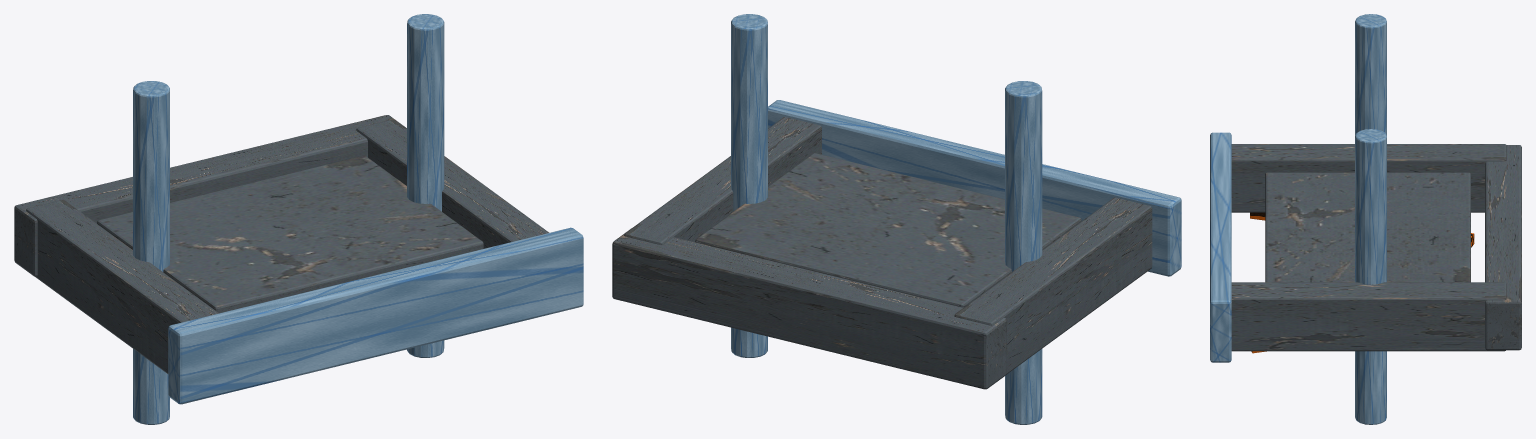
File: cryo_bulkhead.glb
The picture shows the model from 3 angles, left to right: view 1: azimuth 30°, elevation 25°; view 2: azimuth 150°, elevation 25°; view 3: azimuth 270°, elevation 25°; orthographic projection. The views are drawn at different scales.
Visible parts, largest first — view 1: BulkheadFoot, BulkheadCore, BulkheadPillar_-2.75, BulkheadCrossbar, BulkheadPipe_-2.75, BulkheadPipe_2.75, BulkheadPillar_2.75; view 2: BulkheadCore, BulkheadCrossbar, BulkheadFoot, BulkheadPillar_-2.75, BulkheadPipe_-2.75, BulkheadPipe_2.75, BulkheadPillar_2.75; view 3: BulkheadCore, BulkheadPillar_2.75, BulkheadPillar_-2.75, BulkheadPipe_2.75, BulkheadCrossbar, BulkheadFoot, BulkheadPipe_-2.75.
Part boxes in pixels (bbox=[...]): BulkheadFoot: bbox=[168, 227, 583, 404]; BulkheadCore: bbox=[97, 155, 483, 313]; BulkheadPillar_-2.75: bbox=[26, 200, 218, 373]; BulkheadCrossbar: bbox=[14, 115, 405, 276]; BulkheadPipe_-2.75: bbox=[133, 81, 169, 424]; BulkheadPipe_2.75: bbox=[407, 14, 444, 357]; BulkheadPillar_2.75: bbox=[356, 119, 548, 248]; BulkheadCore: bbox=[695, 153, 1081, 307]; BulkheadCrossbar: bbox=[612, 228, 1006, 389]; BulkheadFoot: bbox=[768, 100, 1181, 276]; BulkheadPillar_-2.75: bbox=[954, 197, 1152, 374]; BulkheadPipe_-2.75: bbox=[1005, 81, 1042, 424]; BulkheadPipe_2.75: bbox=[731, 14, 767, 357]; BulkheadPillar_2.75: bbox=[624, 117, 821, 244]; BulkheadCore: bbox=[1265, 172, 1470, 282]; BulkheadPillar_2.75: bbox=[1231, 282, 1506, 351]; BulkheadPillar_-2.75: bbox=[1231, 144, 1506, 212]; BulkheadPipe_2.75: bbox=[1355, 129, 1386, 424]; BulkheadCrossbar: bbox=[1485, 145, 1521, 350]; BulkheadFoot: bbox=[1210, 132, 1231, 362]; BulkheadPipe_-2.75: bbox=[1355, 14, 1386, 135].
Size of the model in its own units: 6.75 by 5.25 by 5.23.
Materials: 6 (6 with a texture image).
